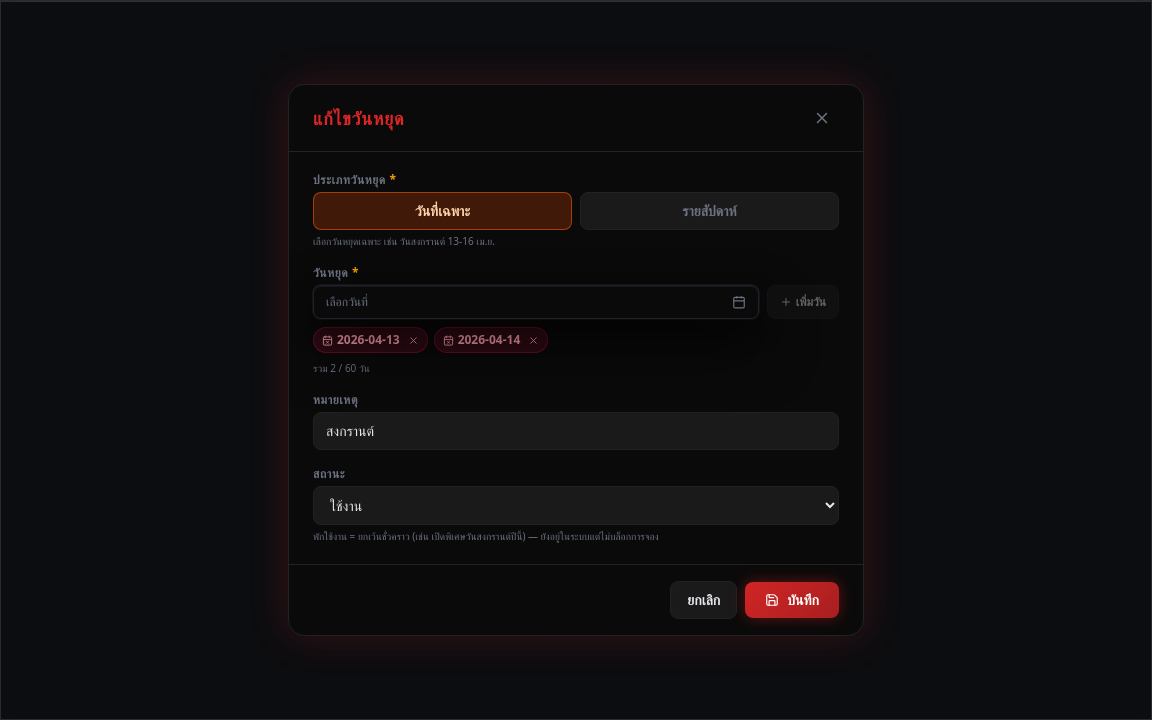
Test: HolidayFormModal — HM1..HM7 › HM6: remove date chip removes it from the list
Click the button named "ลบวัน 2026-04-13" at [413, 340], box [408, 334, 419, 346]
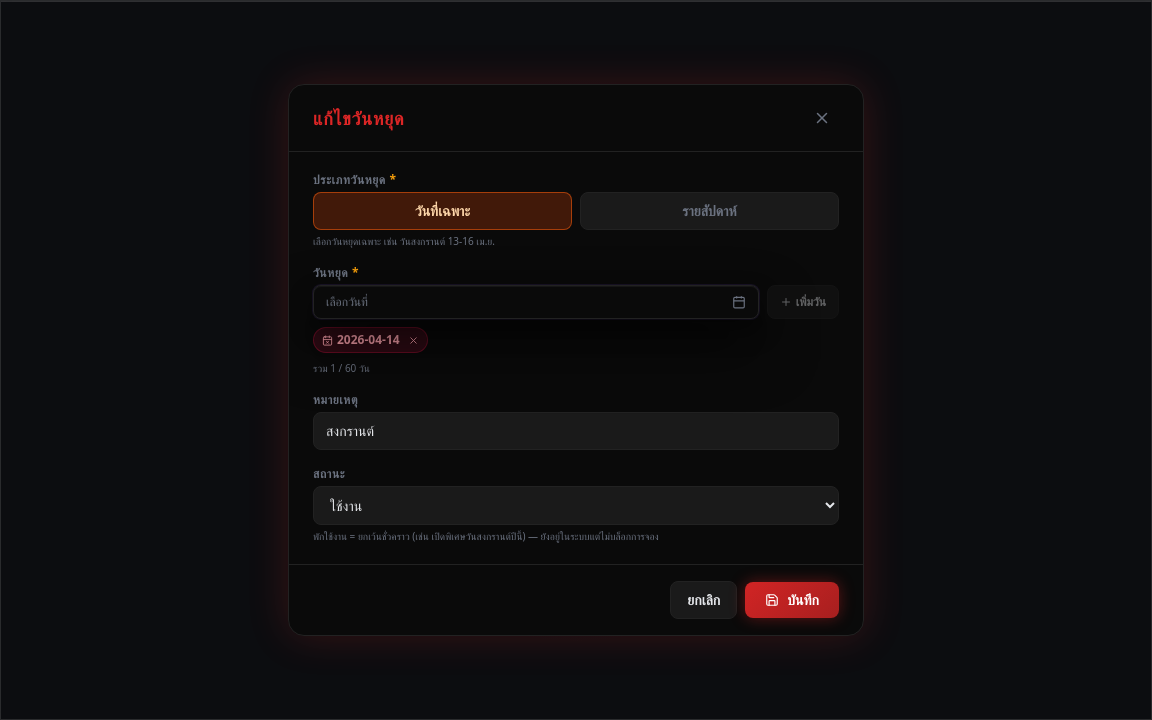
Expected: the text "2026-04-14" is shown, [313, 327, 428, 353]
Result: the text "2026-04-13" is gone
